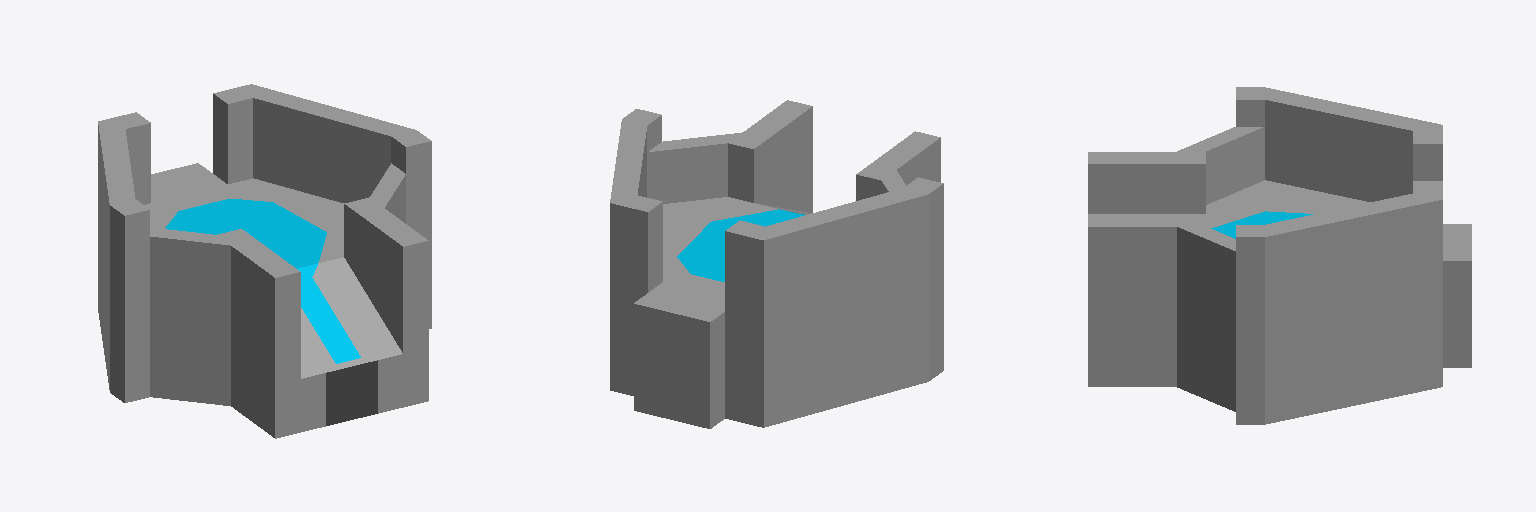
Rendered from bunker-small.obj.
3 renders of one model, left to right at view 1: azimuth 30°, elevation 25°; view 2: azimuth 150°, elevation 25°; view 3: azimuth 270°, elevation 25°, orthographic.
Parts seen in each view (by area): view 1: Mesh1 Bunker__Small1 Model; view 2: Mesh1 Bunker__Small1 Model; view 3: Mesh1 Bunker__Small1 Model.
Part boxes in pixels (x1,y1,x2,y2): Mesh1 Bunker__Small1 Model: (98, 84, 431, 438); Mesh1 Bunker__Small1 Model: (610, 100, 943, 428); Mesh1 Bunker__Small1 Model: (1088, 87, 1471, 424).
Bounding box in the file's own units: 3 × 1.75 × 3.25.